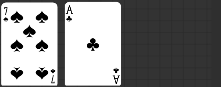7C: (49, 67, 56, 84)
AC: (111, 66, 120, 84)
